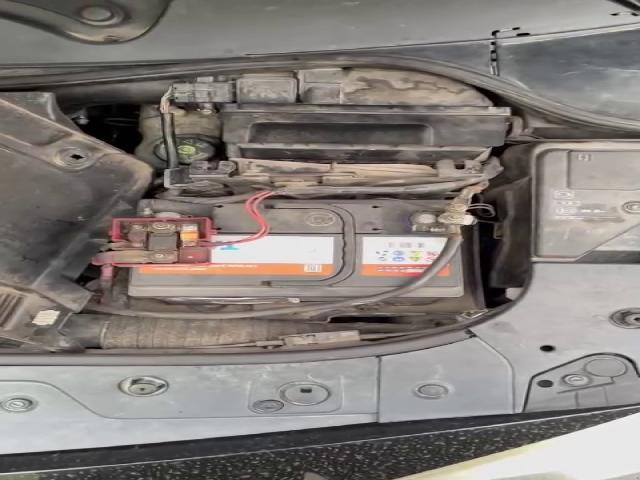accumulator: (91, 198, 481, 307)
fuse_box: (491, 141, 639, 287)
